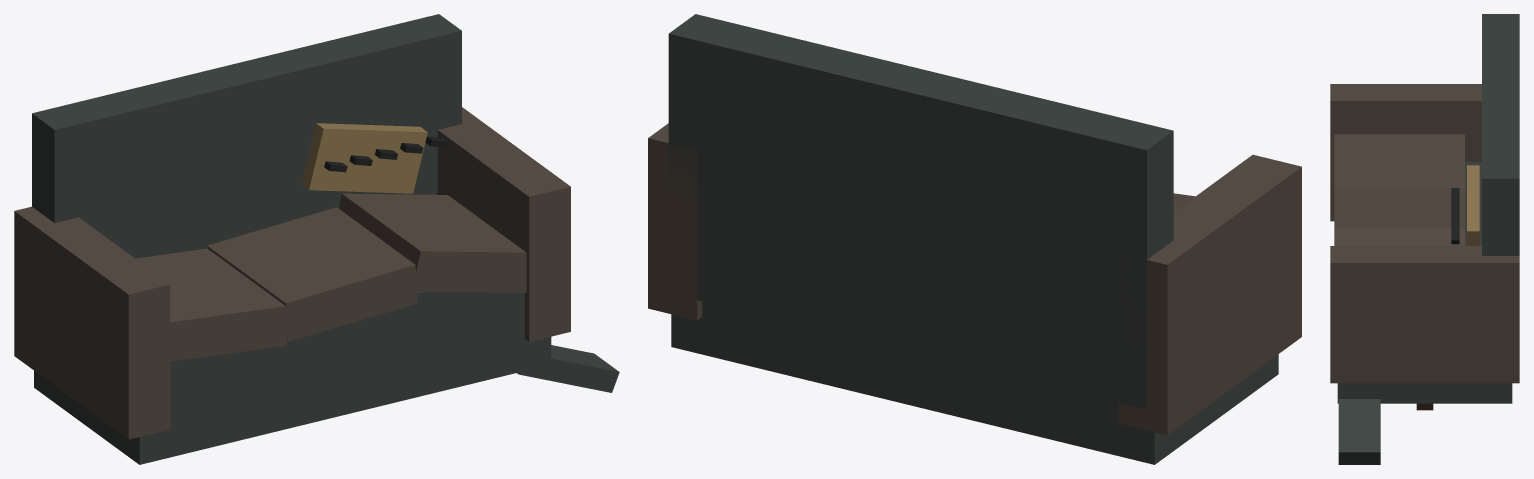
Rendered from Torn_Sofa.obj.
3 views of the same model, side by side, from view 1: azimuth 30°, elevation 25°; view 2: azimuth 150°, elevation 25°; view 3: azimuth 270°, elevation 25° (orthographic). The views are drawn at different scales.
Size of the model in its own units: 2.25 by 1.37 by 0.9.
